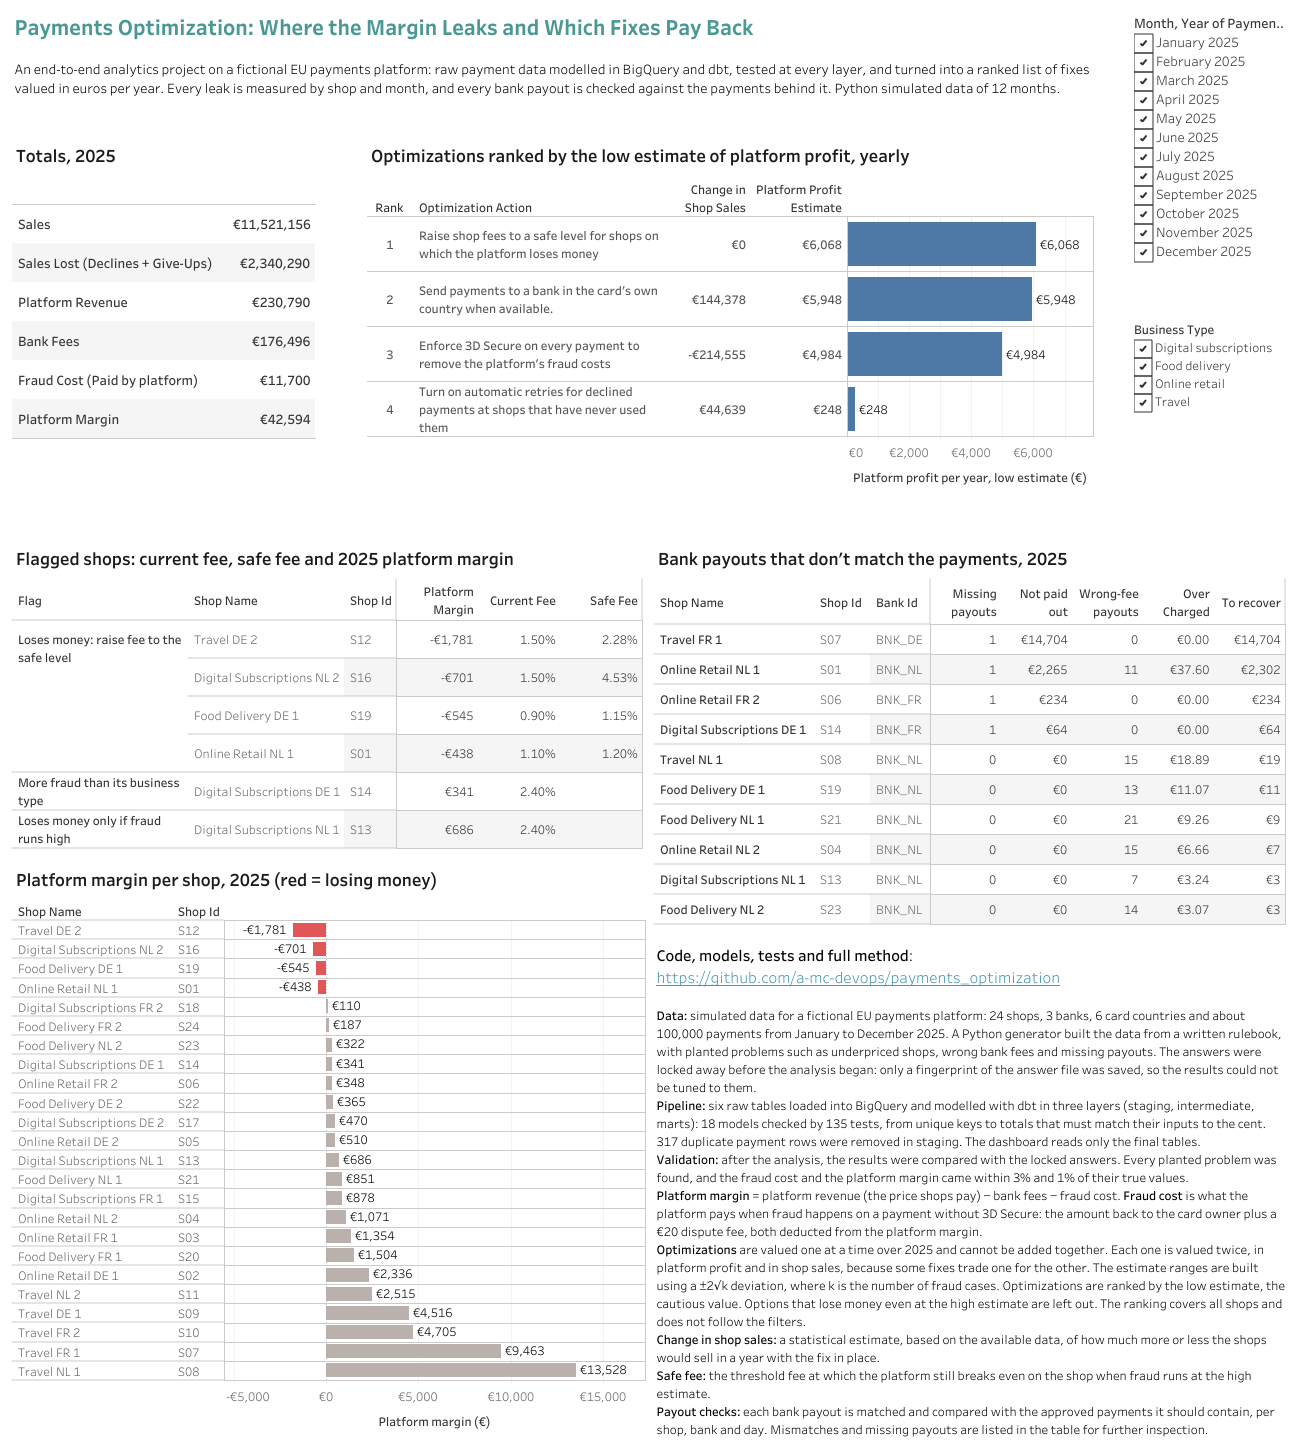

The dashboard page shown, as its layout file describes it:
{"tool":"tableau","page":{"name":"Overview","canvas":[1300,1450],"ordinal":0},"visuals":[{"type":"text","box":[8,8,1090,93.5]},{"type":"blank","box":[1098,8,32,503]},{"type":"filter","title":"Totals","param":"[federated.1mxrfee0vusvng174tgjf0d8w46x].[my:payment_month:ok]","box":[1130,8,162,293]},{"type":"blank","box":[8,101.5,1090,31.5]},{"type":"worksheet","title":"Totals","mark":"Automatic","box":[8,133,354.5,378]},{"type":"worksheet","title":"Ranked fixes","mark":"Bar","rows":["fix_rank","fix_option","shop_sales_eur","platform_profit_eur_low"],"cols":["platform_profit_eur_low"],"box":[362.5,133,735.5,378]},{"type":"filter","title":"Margin by shop","param":"[federated.1mxrfee0vusvng174tgjf0d8w46x].[none:business_type:nk]","box":[1130,301,162,127]},{"type":"blank","box":[8,511,1284,25]},{"type":"worksheet","title":"Flagged Shops","mark":"Automatic","rows":["Calculation_3240184070270980","shop_name","shop_id"],"box":[8,536,642,321]},{"type":"worksheet","title":"Payout Exceptions","mark":"Automatic","rows":["shop_name","shop_id","bank_id"],"box":[650,536,642,404]},{"type":"worksheet","title":"Margin by shop","mark":"Automatic","rows":["shop_name","shop_id"],"cols":["platform_margin_eur"],"box":[8,857,642,585]},{"type":"text","box":[650,940,642,502]}]}

Visuals, with their boxes in screenshot pixels (x1, y1, x2, y2), scaled from the page's 1300x1450 canvas onto the 1299x1449 screenshot:
text: BBox(8, 8, 1097, 101)
blank: BBox(1097, 8, 1129, 511)
"Totals" filter: BBox(1129, 8, 1291, 301)
blank: BBox(8, 101, 1097, 133)
"Totals" worksheet: BBox(8, 133, 362, 511)
"Ranked fixes" worksheet (Bar marks): BBox(362, 133, 1097, 511)
"Margin by shop" filter: BBox(1129, 301, 1291, 428)
blank: BBox(8, 511, 1291, 536)
"Flagged Shops" worksheet: BBox(8, 536, 650, 856)
"Payout Exceptions" worksheet: BBox(650, 536, 1291, 939)
"Margin by shop" worksheet: BBox(8, 856, 650, 1441)
text: BBox(650, 939, 1291, 1441)
